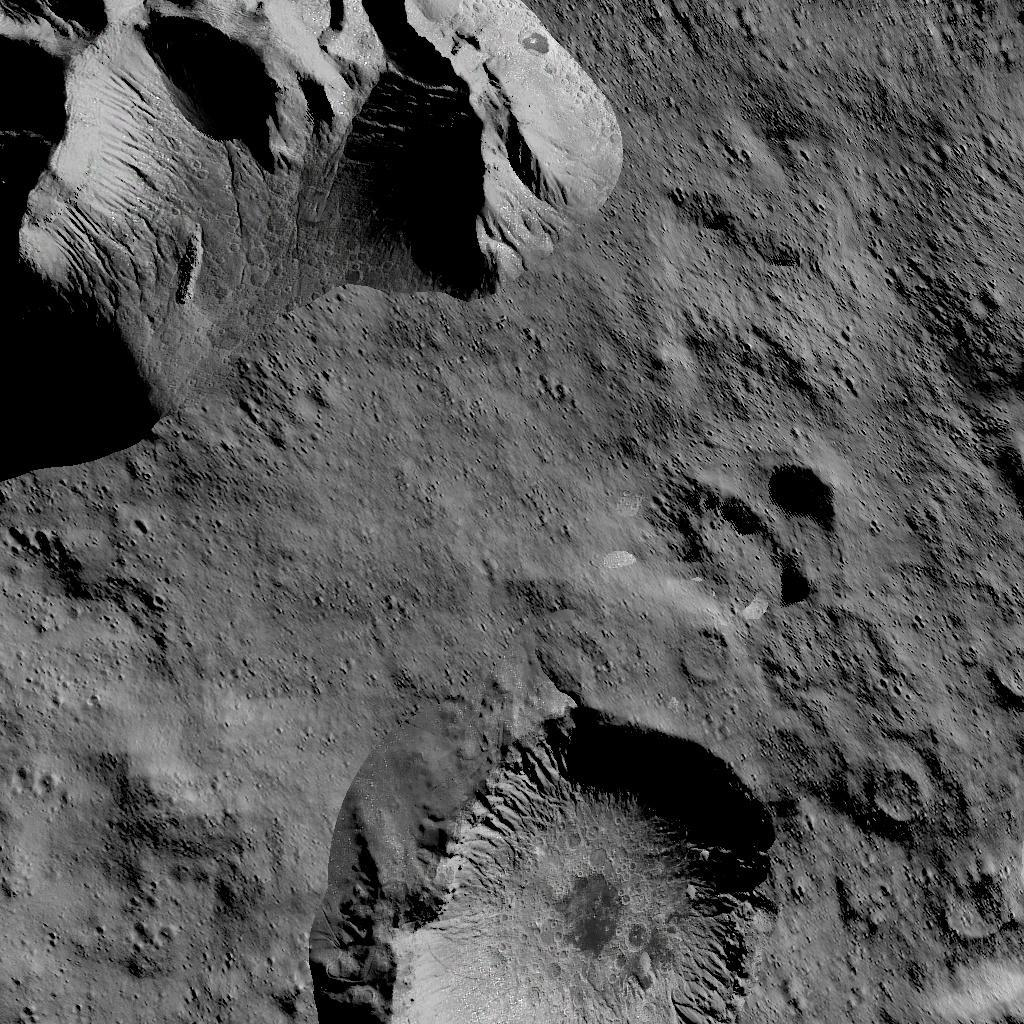Boulders: (0, 0, 626, 475)
Crater: (315, 702, 800, 1024), (661, 450, 847, 614), (927, 870, 1024, 954), (863, 756, 935, 838), (674, 622, 736, 686), (979, 642, 1024, 720)
Plan surface: (639, 0, 1024, 441), (3, 484, 650, 690), (3, 696, 301, 1024)
